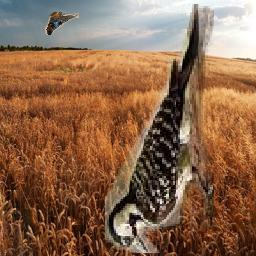Swallow: (45, 13, 79, 36)
Woodpecker: (106, 5, 215, 254)
